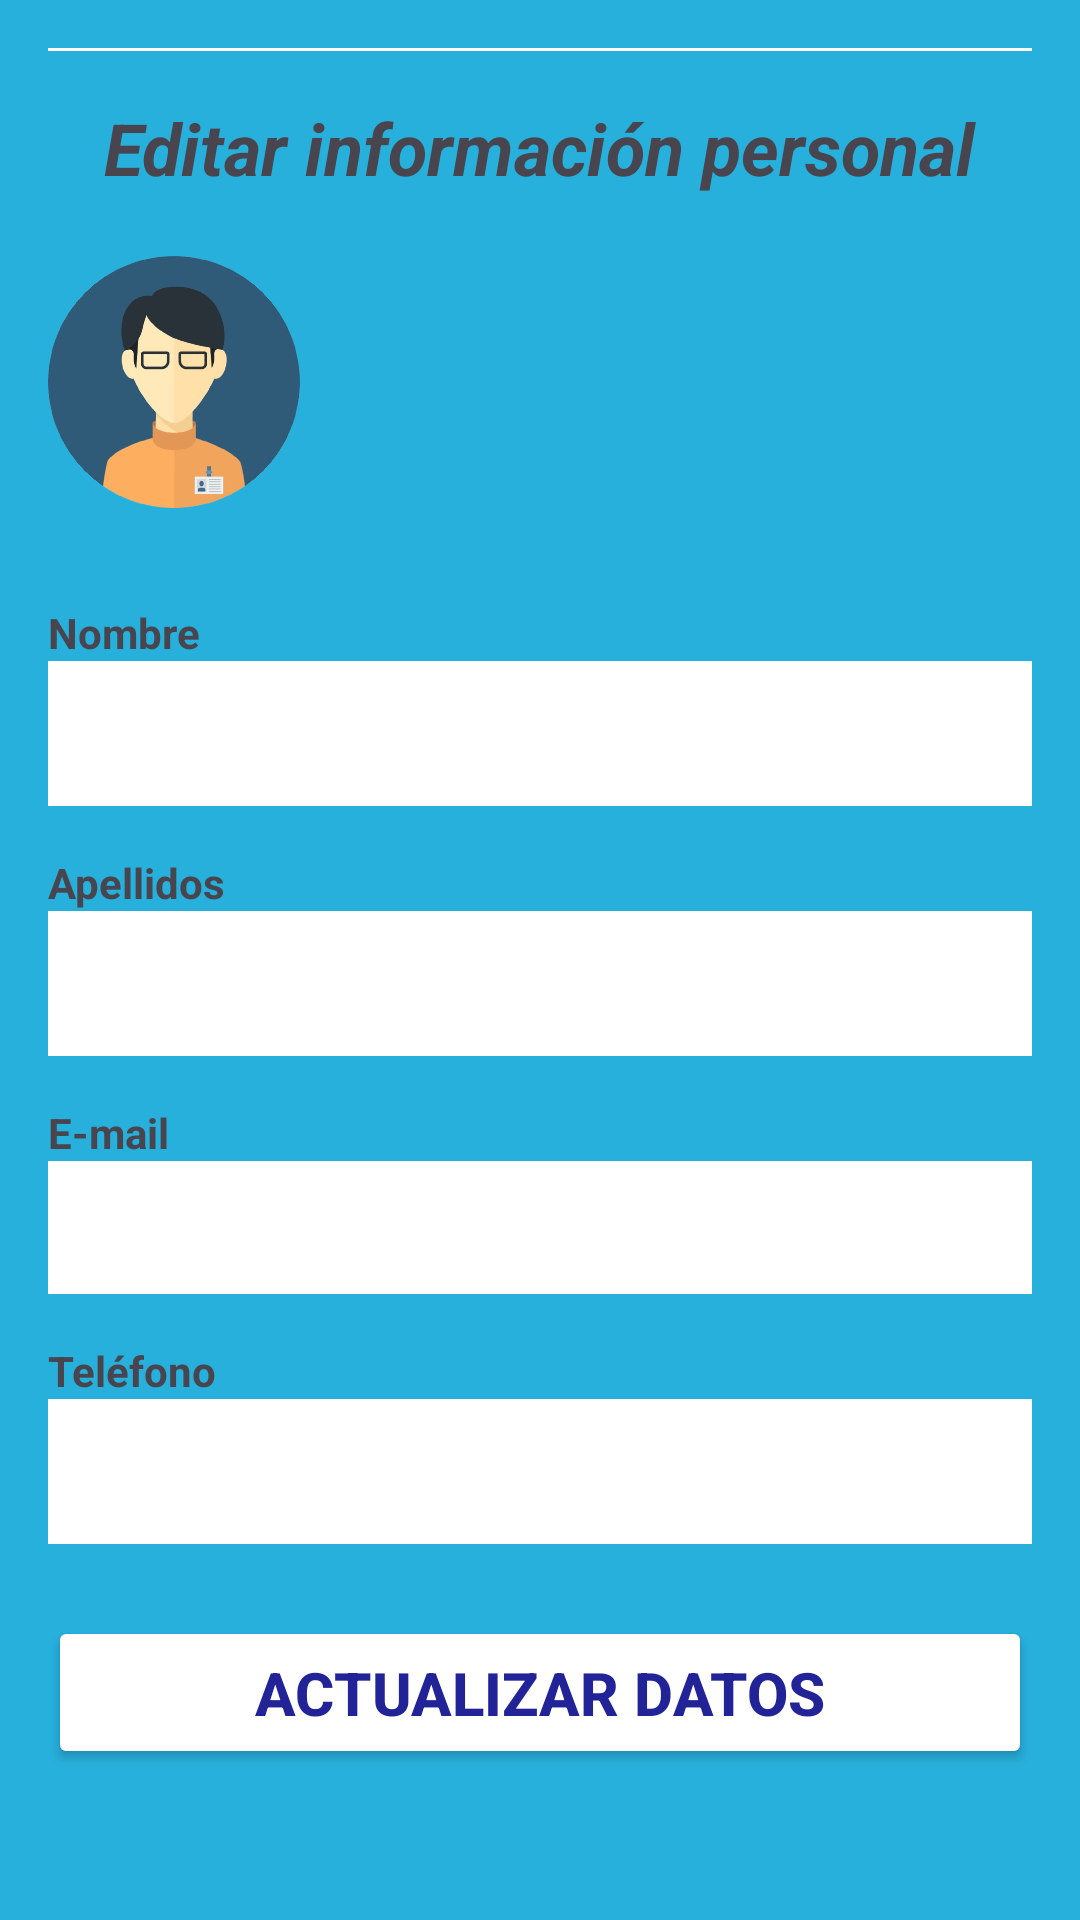

Named icons in this screenshot (1080 × 1920) and their bounding boxes, (x1, y1, x2, y2):
menicon: (48, 256, 300, 508)
